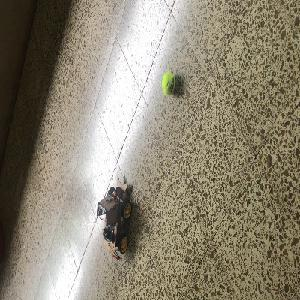Ball: (161, 72, 174, 96)
Robot: (96, 174, 134, 254)
